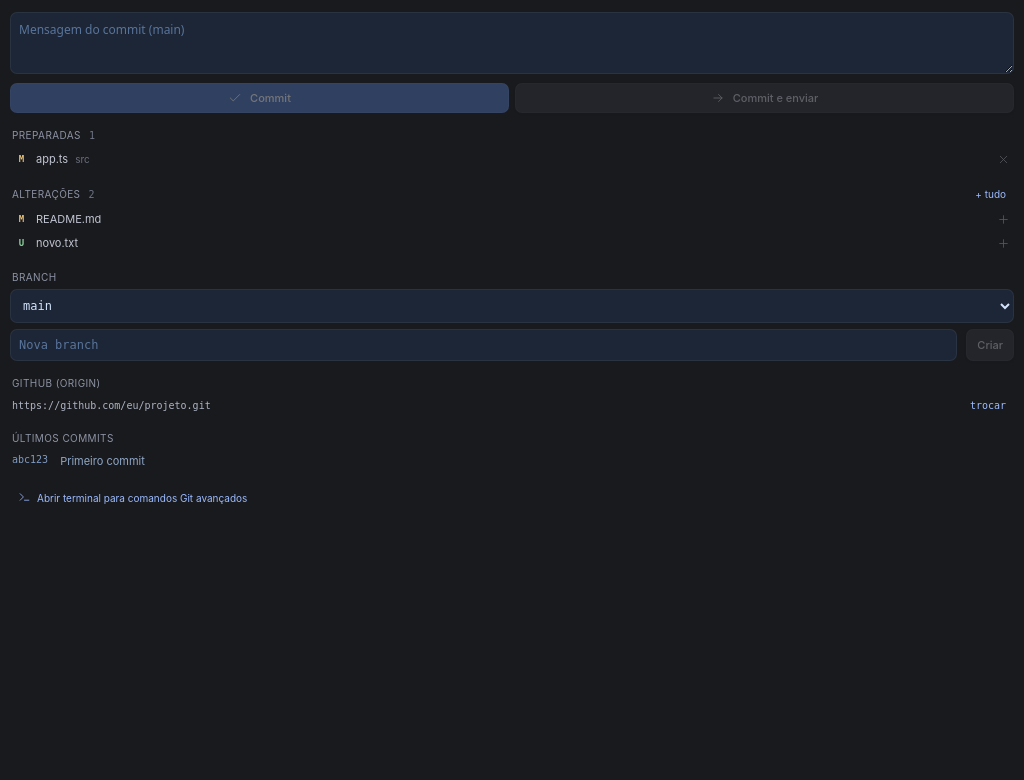
Test case: Painel Git › clicar no arquivo mostra o diff colorido e clicar de novo fecha
The width and height of the screenshot is (1024, 780).
Click the button titled "README.md" at (69, 219), box [10,207,993,231]
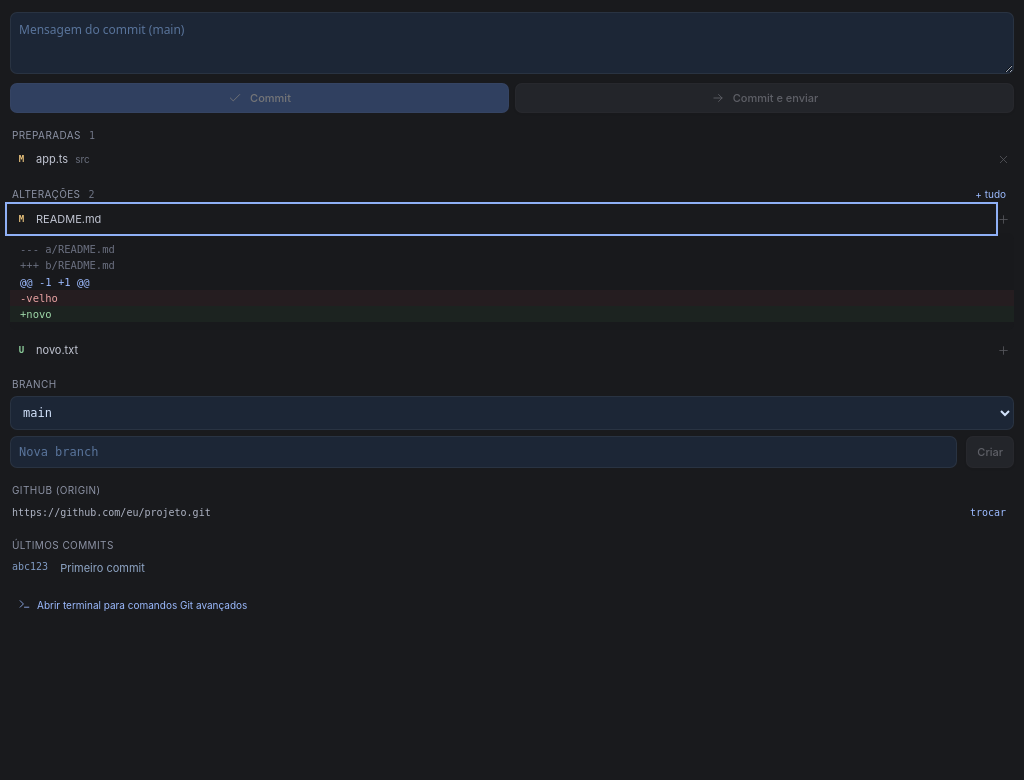
Click the button titled "README.md" at (69, 219), box [10,207,993,231]
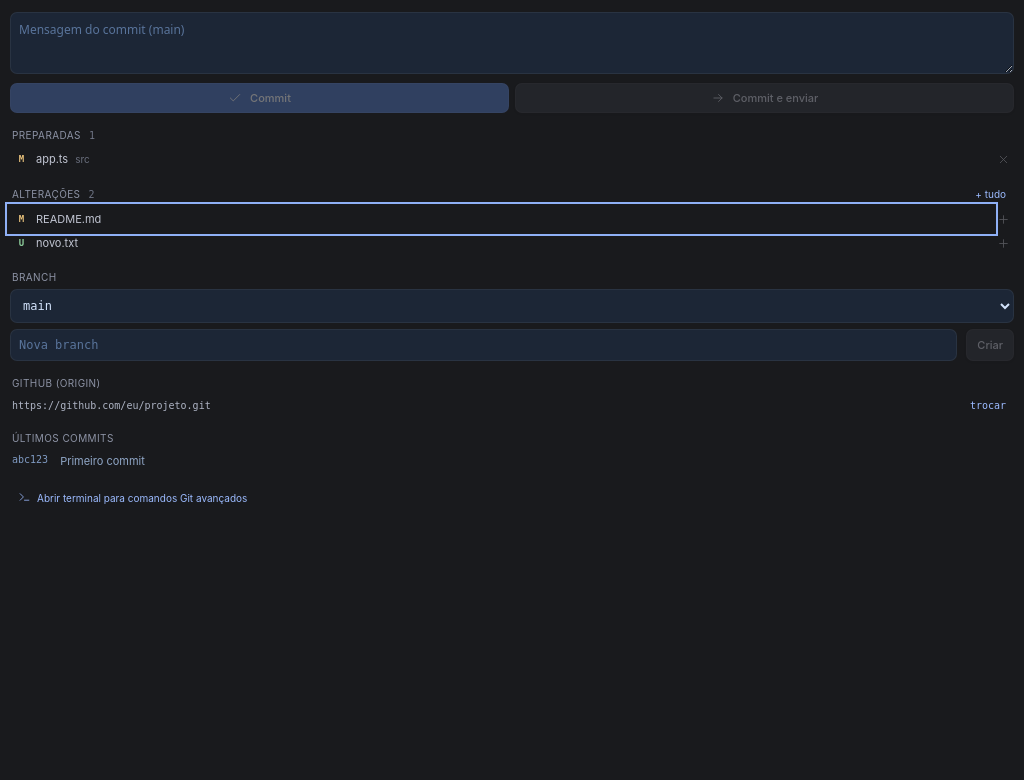
Expected: the text "+novo" is gone
